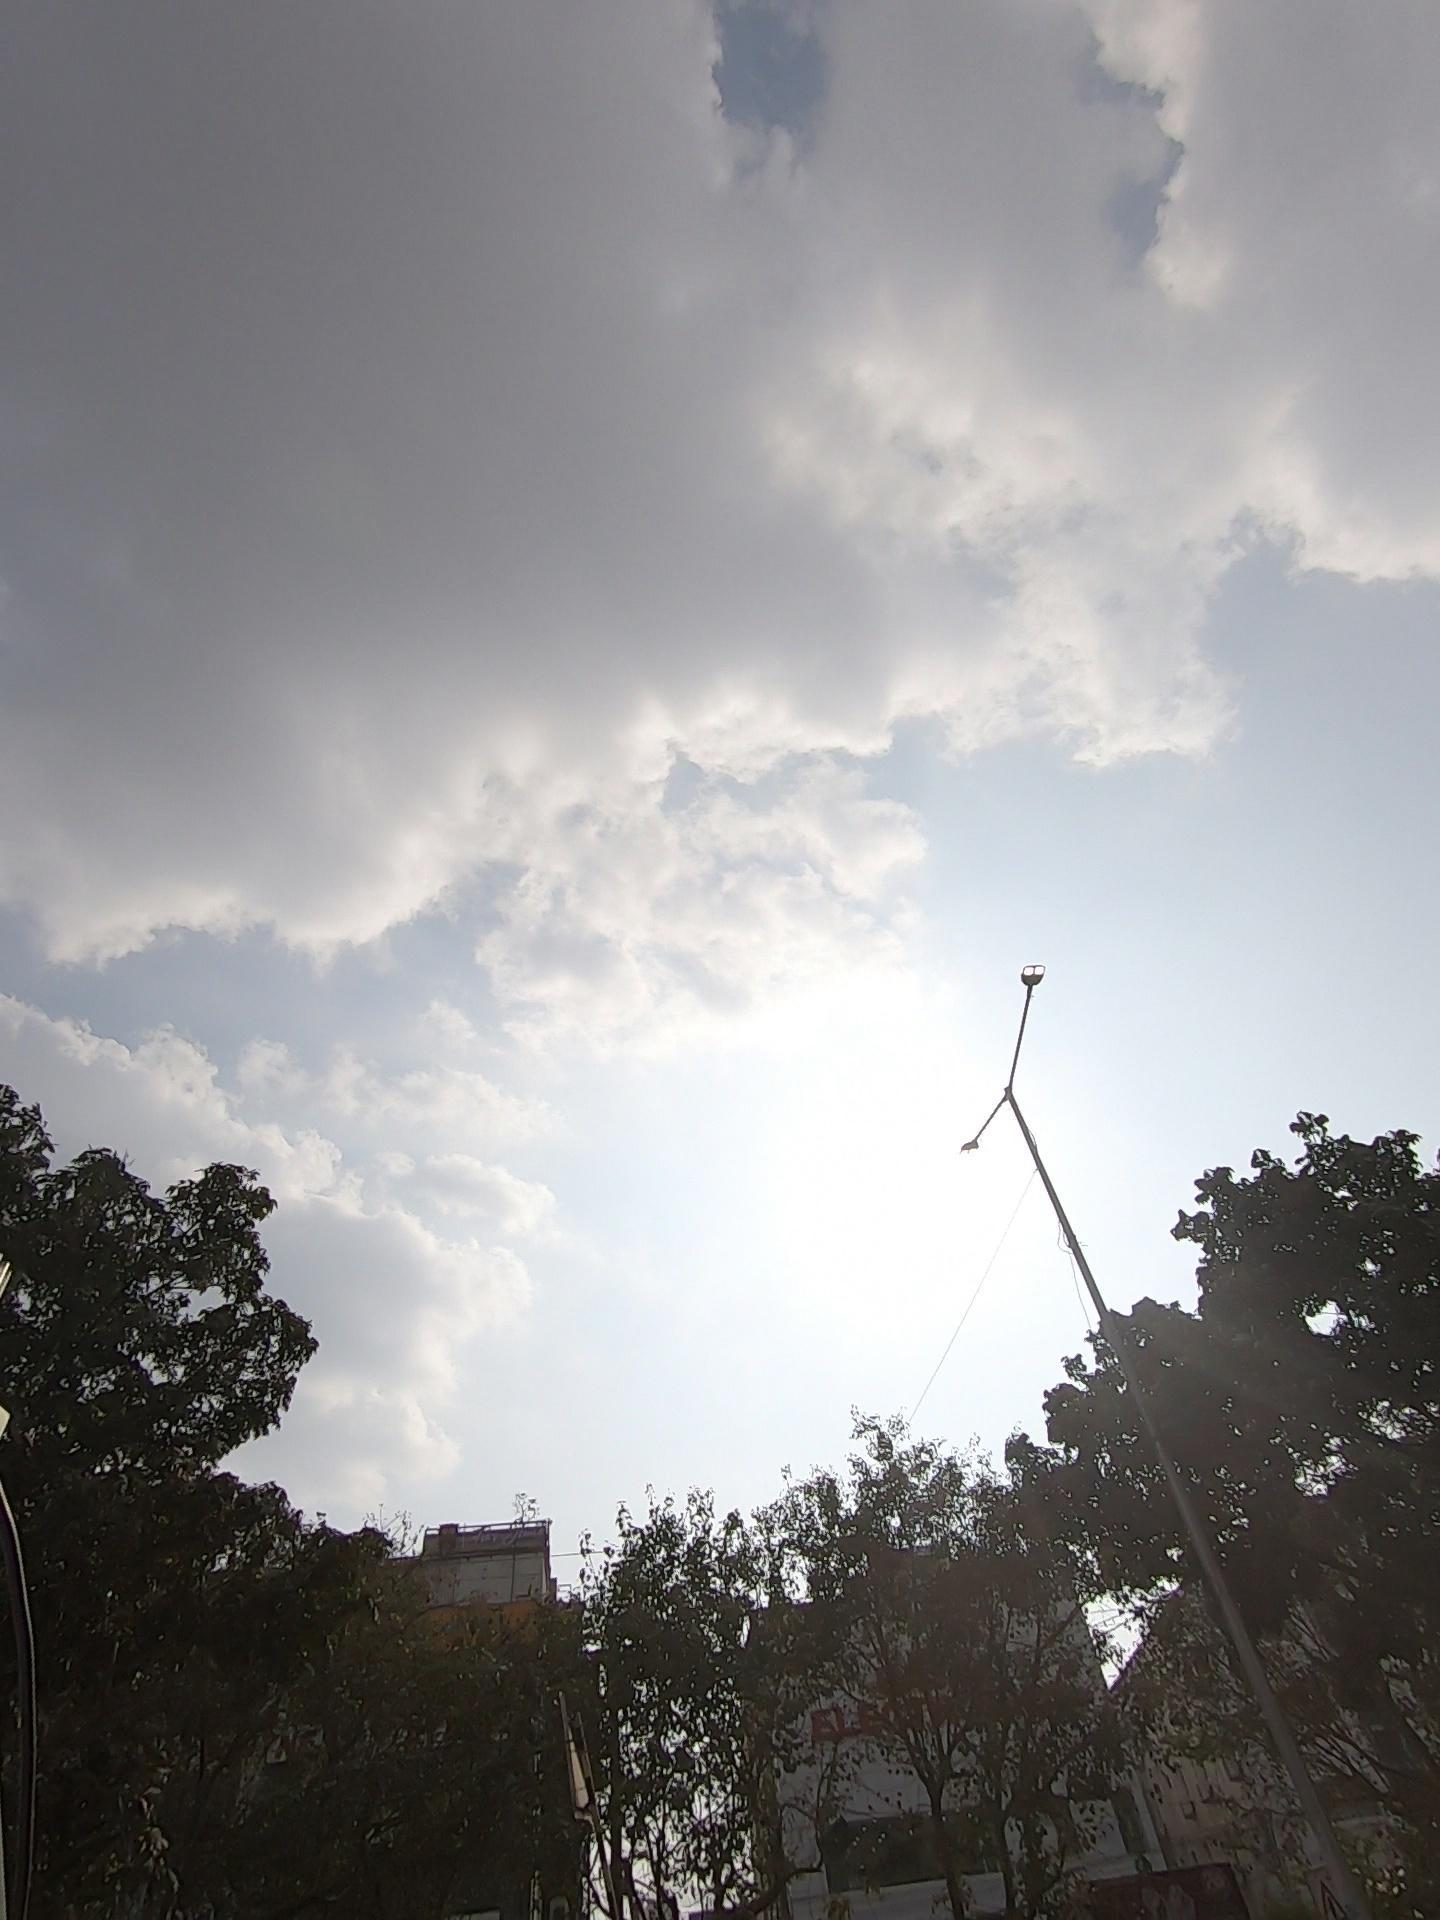off: (939, 955, 1100, 1199)
